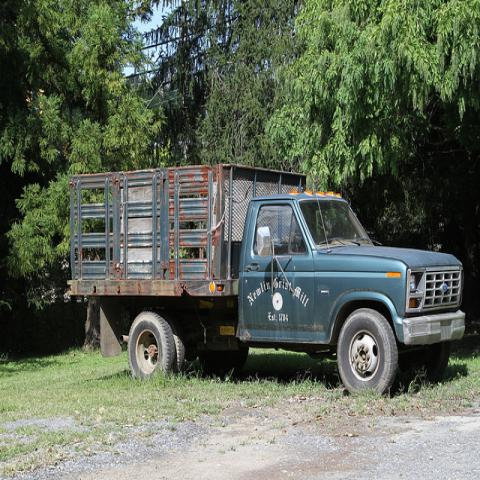truck: (62, 162, 468, 406)
